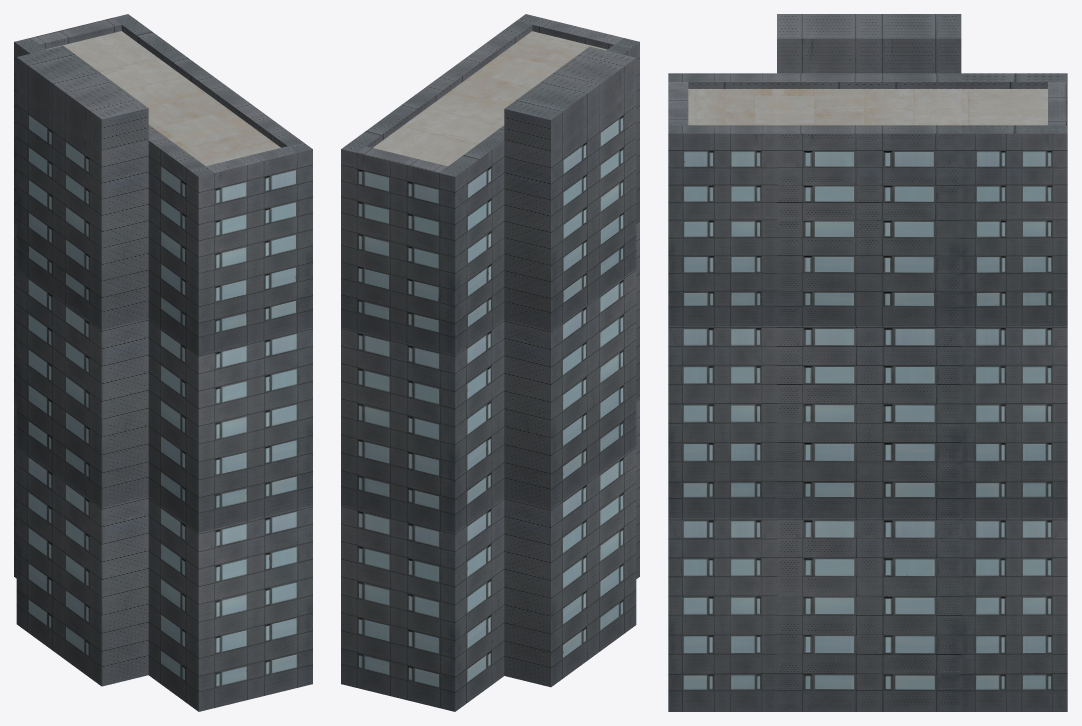
File: house4.FBX
The picture shows the model from 3 angles, left to right: view 1: azimuth 30°, elevation 25°; view 2: azimuth 150°, elevation 25°; view 3: azimuth 270°, elevation 25°; orthographic projection. The views are drawn at different scales.
Parts seen in each view (by area): view 1: Box001; view 2: Box001; view 3: Box001.
Part boxes in pixels (x1=…): Box001: x1=14, y1=14, x2=312, y2=711; Box001: x1=341, y1=14, x2=639, y2=711; Box001: x1=668, y1=14, x2=1067, y2=711.
Size of the model in its own units: 75.19 by 253 by 150.
